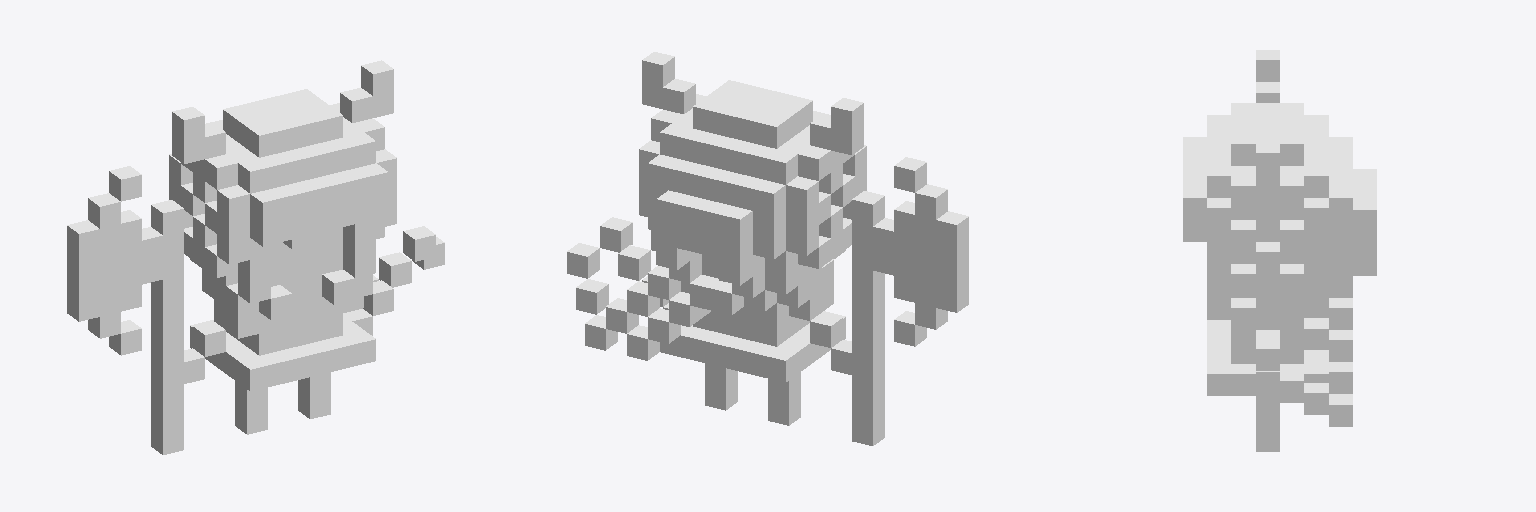
Rendered from VoxelWarrior.obj.
3 renders of one model, left to right at view 1: azimuth 30°, elevation 25°; view 2: azimuth 150°, elevation 25°; view 3: azimuth 270°, elevation 25°, orthographic.
Parts seen in each view (by area): view 1: VoxelWarrior; view 2: VoxelWarrior; view 3: VoxelWarrior.
Part boxes in pixels (left/top/right/bottom): VoxelWarrior: left=67, top=60, right=444, bottom=454; VoxelWarrior: left=567, top=52, right=968, bottom=445; VoxelWarrior: left=1183, top=50, right=1376, bottom=451.
Size of the model in its own units: 18 by 15 by 8.